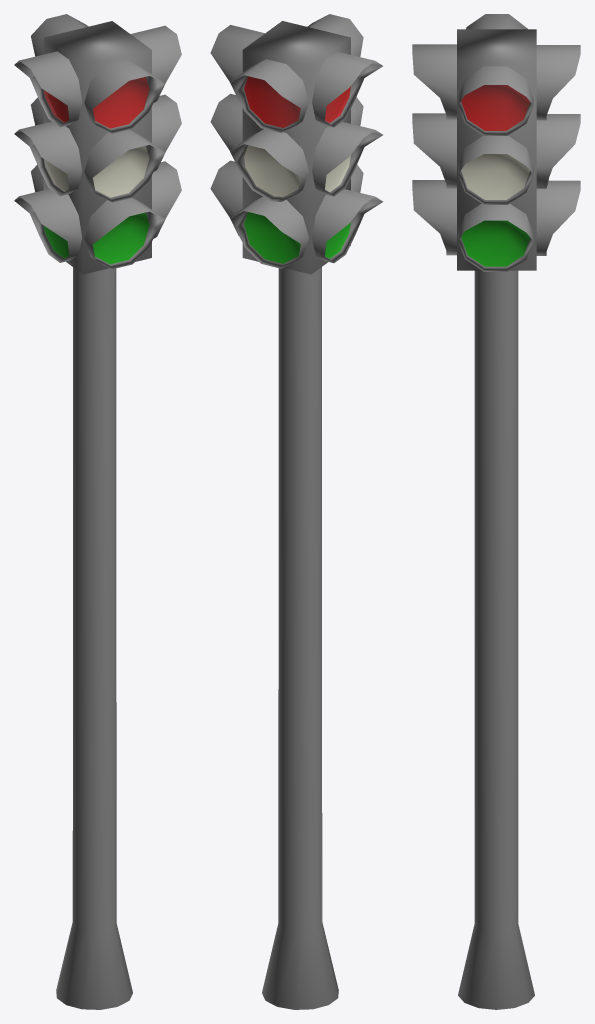
Rendered from trafficLights.fbx.
3 views of the same model, side by side, from view 1: azimuth 30°, elevation 25°; view 2: azimuth 150°, elevation 25°; view 3: azimuth 270°, elevation 25° (orthographic).
Parts seen in each view (by area): view 1: polySurface10; view 2: polySurface10; view 3: polySurface10.
Boxes of the visible parts, left/top/right/bottom form: polySurface10: left=14, top=14, right=181, bottom=1009; polySurface10: left=210, top=14, right=383, bottom=1009; polySurface10: left=412, top=14, right=580, bottom=1009.
Size of the model in its own units: 0.0551 by 0.3433 by 0.0551.
